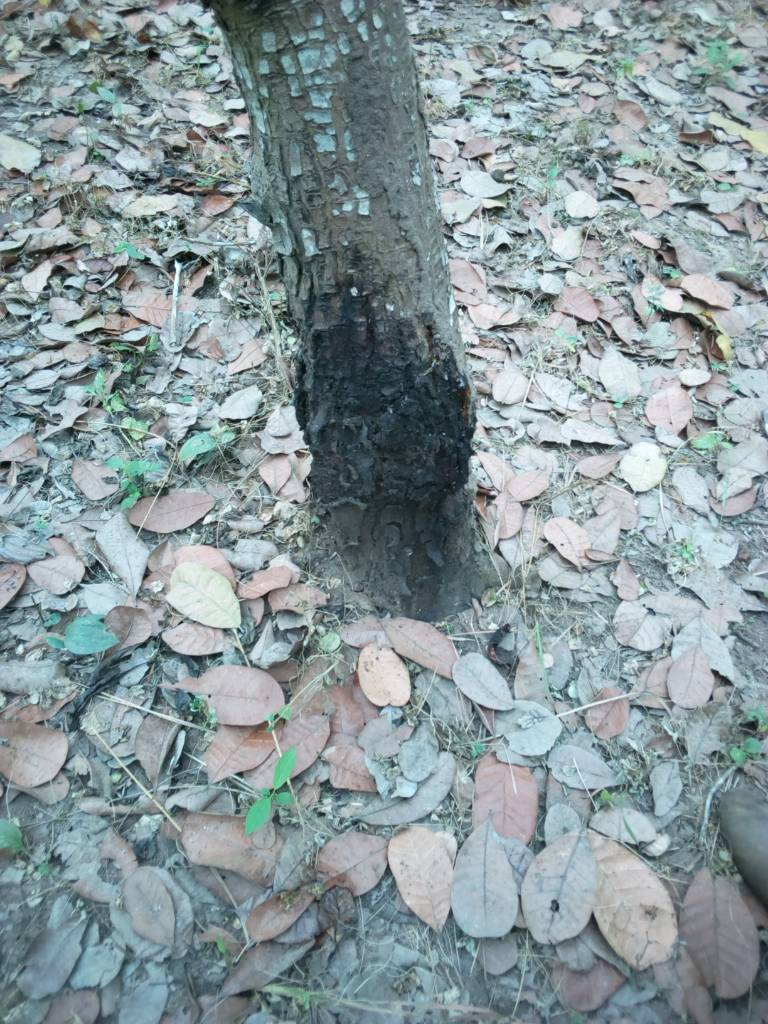Gommose: (288, 300, 479, 524)
